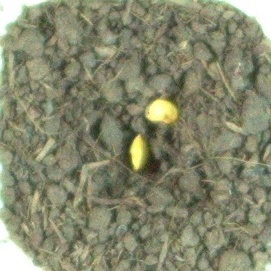pepper seed: (52, 46, 203, 219), (57, 36, 237, 162)
